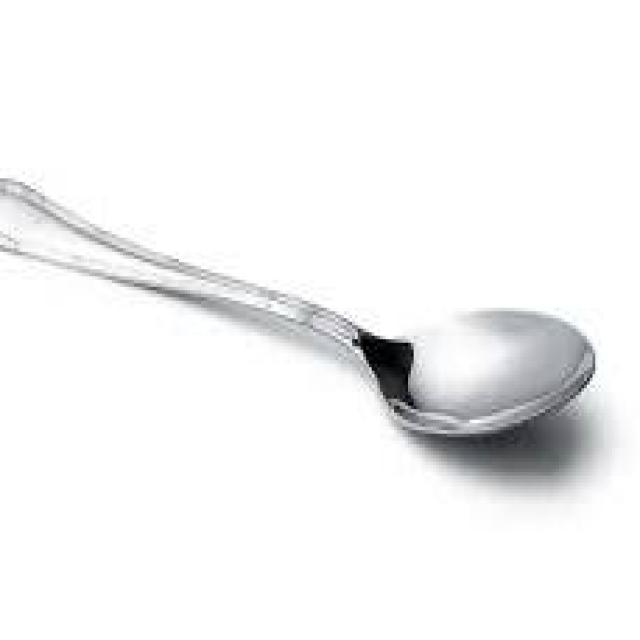alat_rumah_tangga: (46, 131, 614, 527)
